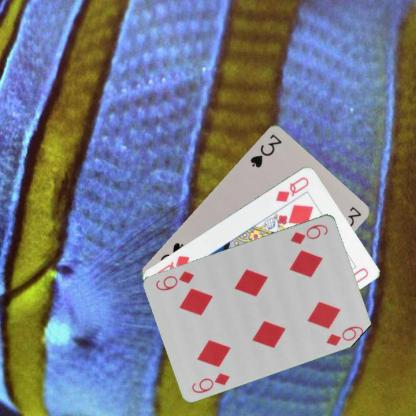3s: (247, 131, 283, 169)
6d: (287, 221, 329, 246), (189, 370, 232, 394)
Qd: (273, 174, 310, 204)
